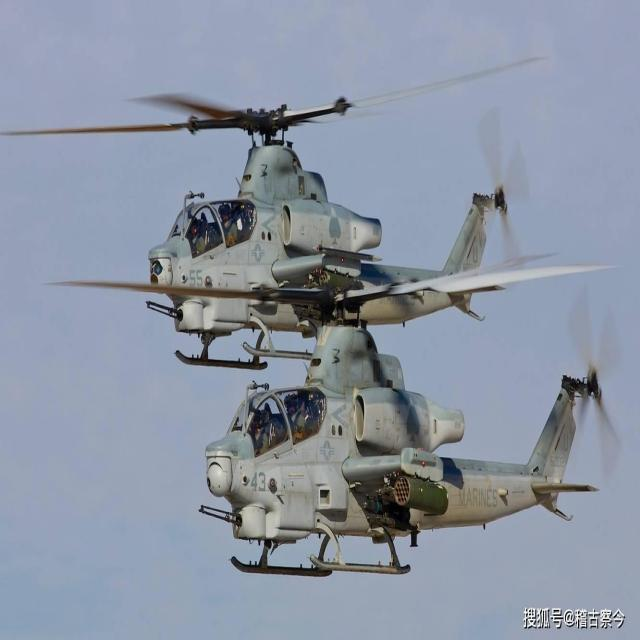MIL_HELO: (48, 265, 640, 583), (0, 67, 590, 369)
